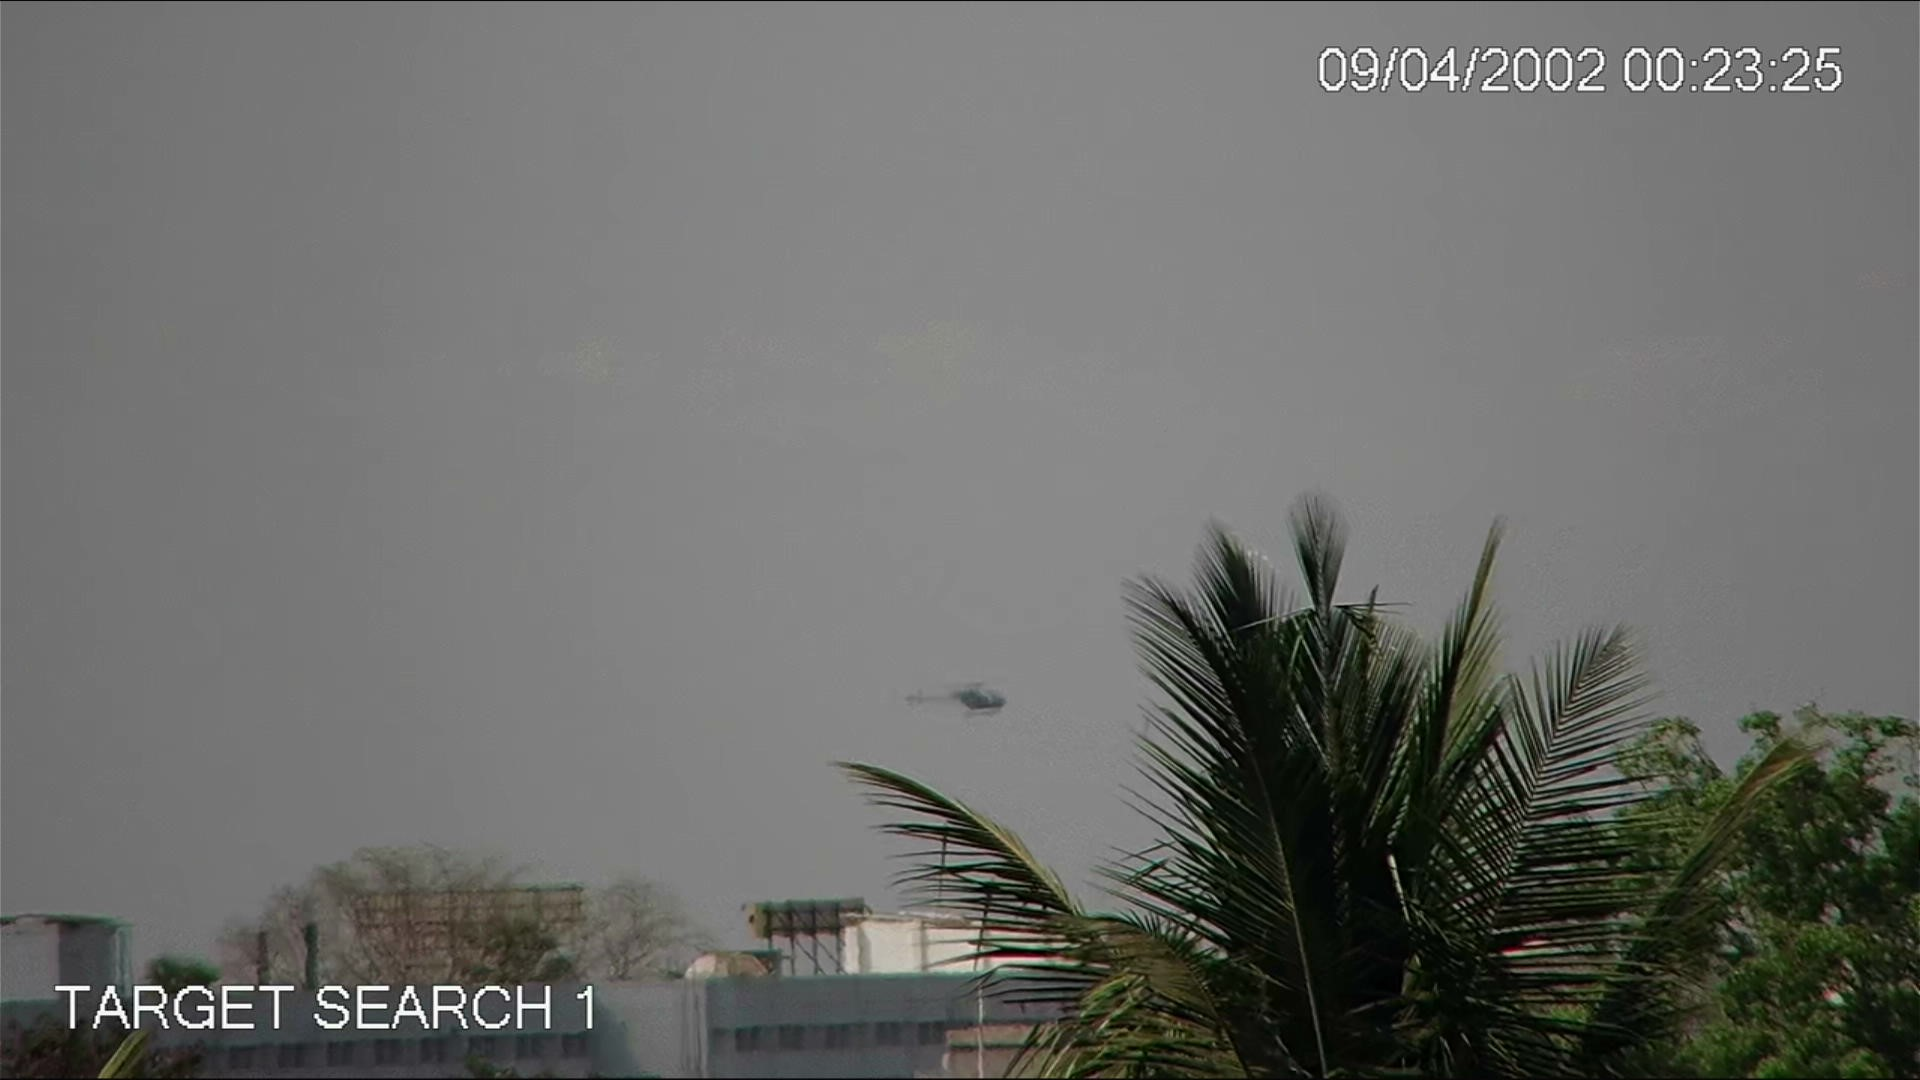SU_30: (901, 674, 1007, 717)
